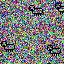sheep: (1, 40, 15, 52), (29, 5, 43, 16), (47, 45, 61, 56), (54, 3, 64, 14)
